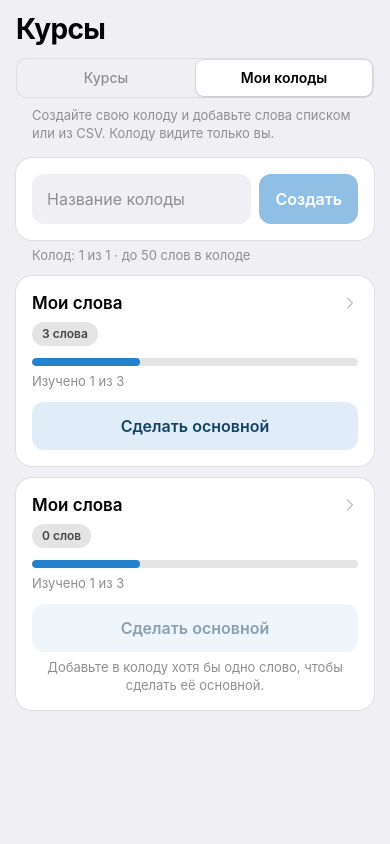
MyDecksView › deck cards › chooses a deck as the main one; an empty deck cannot be chosen
Expected: the 2nd button with test id "choose-btn" is disabled, [32,604,358,652]
Click the button with test id "choose-btn" below "3 слова".
click(195, 426)  # box [32,402,358,450]
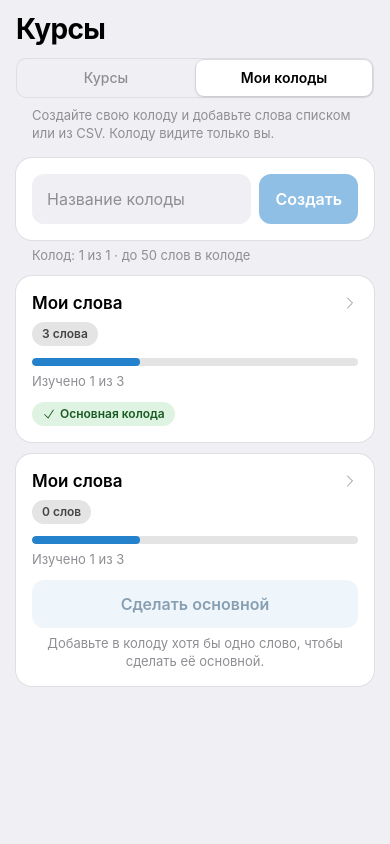
Expected: the element with test id "active-badge" reads "Основная колода", [60,406,165,421]
